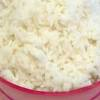rice: (1, 1, 100, 89)
